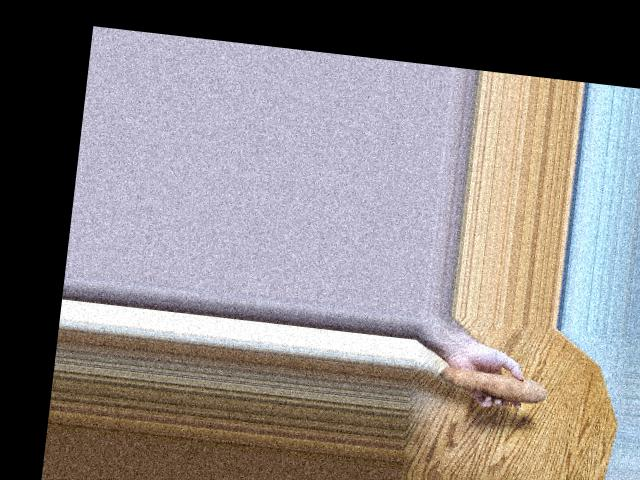sweet_potato: (439, 367, 552, 413)
